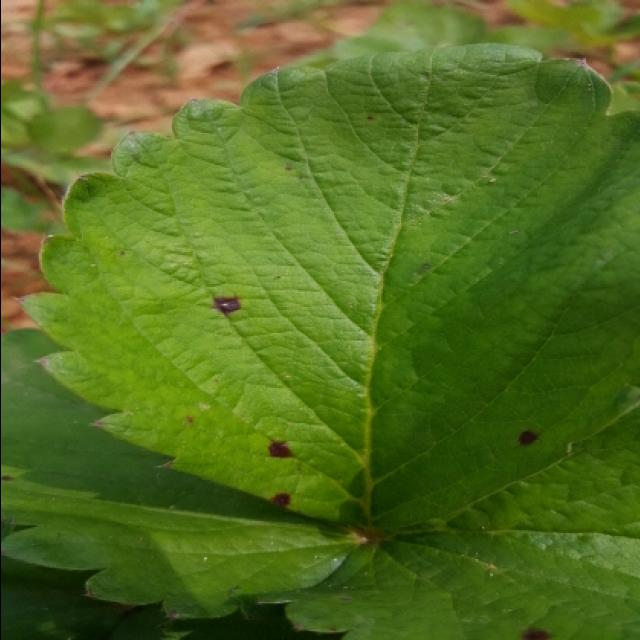Leaf Spot: (8, 42, 640, 535), (284, 403, 640, 638)
